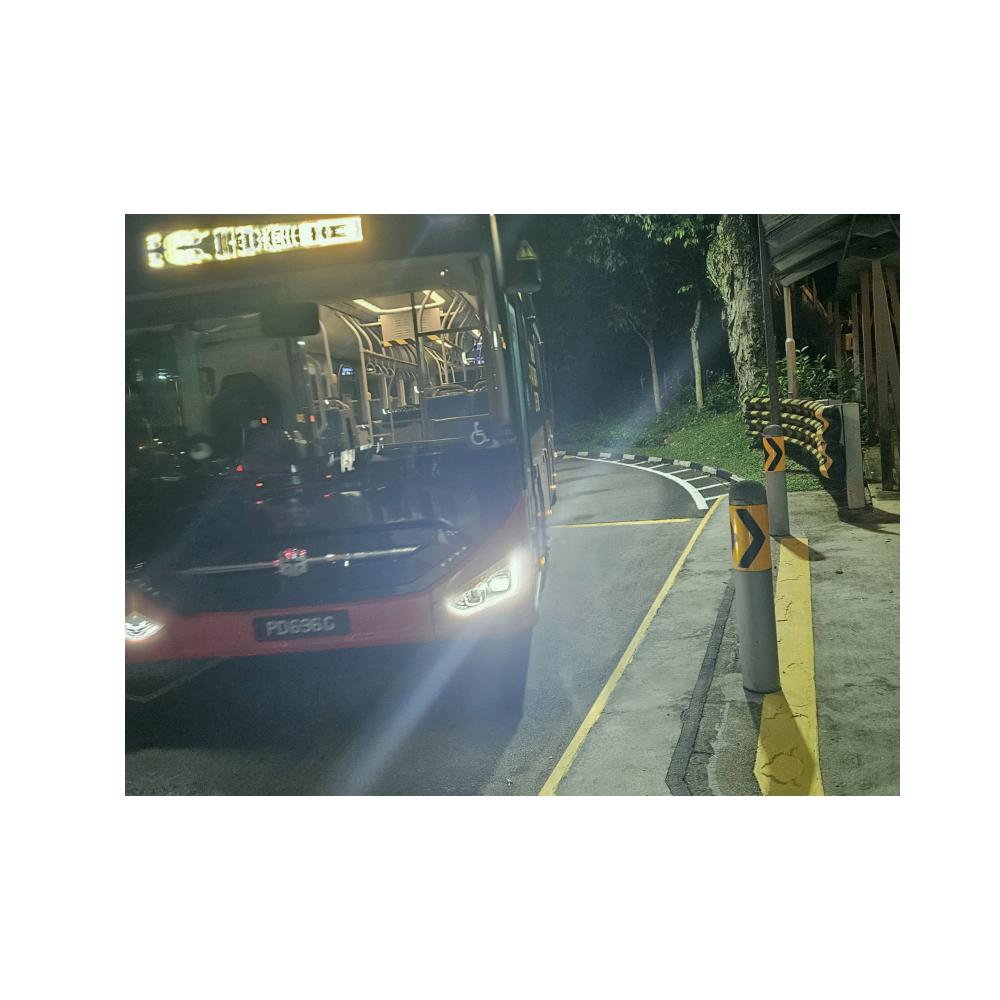bus: (127, 217, 561, 677)
